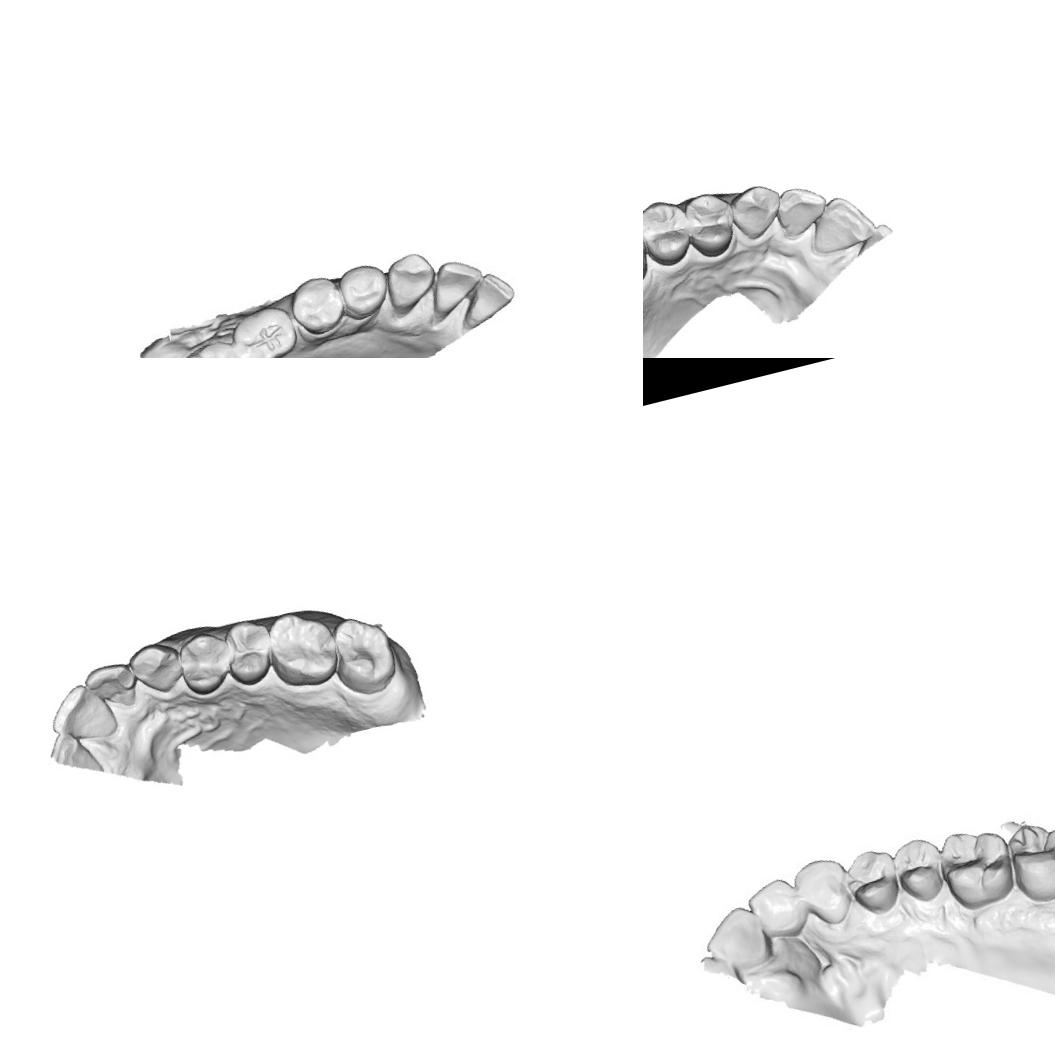canine: (790, 852, 858, 932), (376, 244, 438, 317), (123, 634, 189, 702), (723, 176, 788, 244)
incisor: (42, 675, 120, 750), (801, 188, 881, 260), (694, 899, 769, 972), (743, 872, 808, 942), (452, 266, 522, 330), (769, 178, 834, 242), (78, 656, 143, 716), (424, 258, 484, 318)
molar: (931, 818, 1022, 914), (258, 599, 345, 696), (324, 606, 405, 702), (998, 807, 1055, 907), (224, 299, 303, 358), (173, 333, 252, 358)
premolar: (170, 624, 238, 700), (839, 842, 904, 918), (216, 613, 280, 690), (886, 832, 950, 909), (680, 187, 742, 261), (643, 192, 697, 271), (287, 274, 347, 334), (335, 260, 395, 318)
